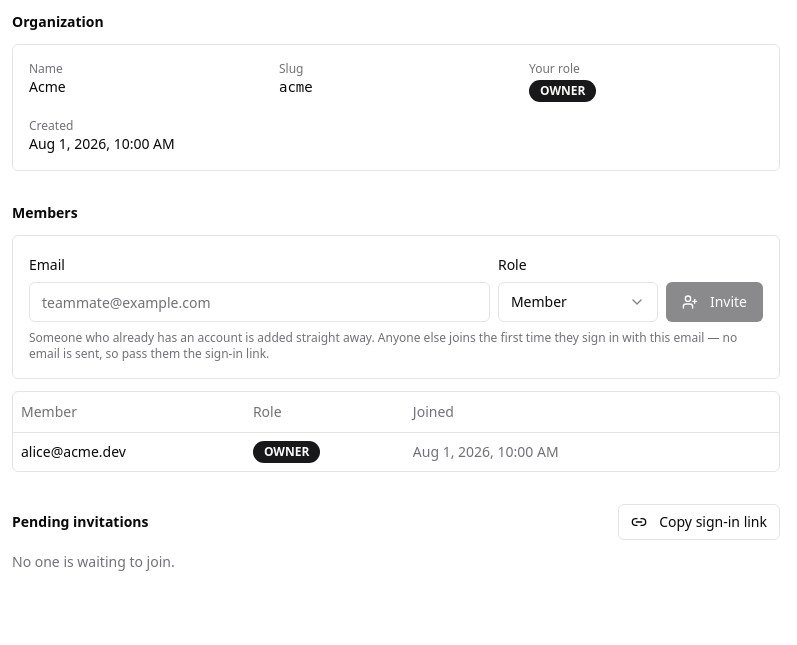
Test: OrganizationTab invitations › invites someone who already has an account: ACCEPTED, says they are a member now
Expected: the text "No one is waiting to join." is shown, [12,552,175,570]
Type "bob@acme.dev" into the field with test id "member-email".
click(259, 302); type("bob@acme.dev")  # box [29,282,490,322]
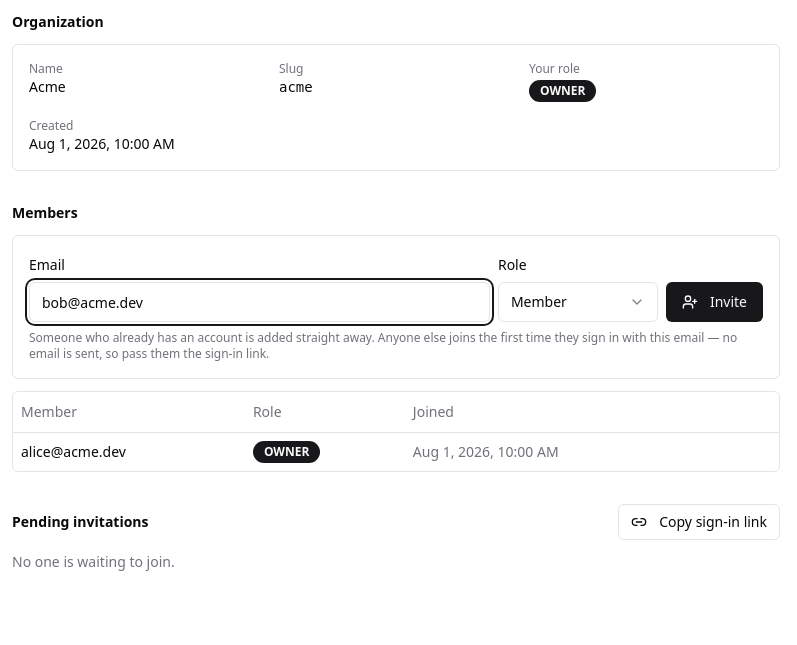
Click the button with test id "member-invite".
click(714, 302)  # box [666,282,763,322]
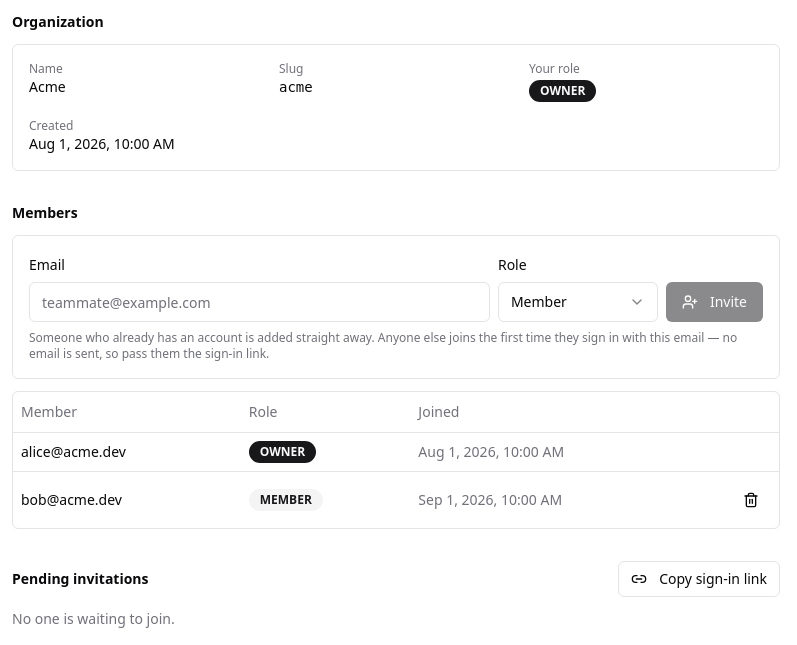
Result: the row with test id "member-row-bob@acme.dev" is shown at [13,471,779,528]
